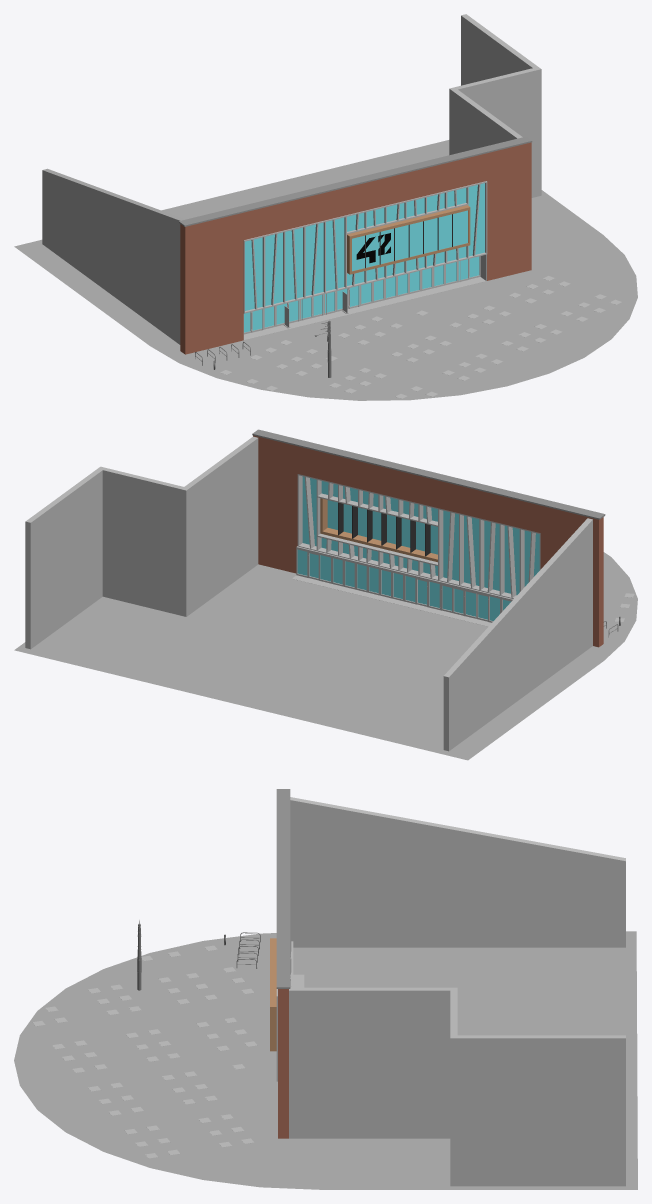
Rendered from 42WOB.glb.
3 renders of one model, top to bottom at view 1: azimuth 30°, elevation 25°; view 2: azimuth 150°, elevation 25°; view 3: azimuth 270°, elevation 25°, orthographic. The views are drawn at different scales.
Visible parts, largest first — view 1: Campus; view 2: Campus; view 3: Campus.
Boxes of the visible parts, x1,y1,x2,y2 form: Campus: [14, 14, 637, 400]; Campus: [14, 429, 637, 760]; Campus: [14, 789, 637, 1189].
Bounding box in the file's own units: 20.02 × 5.48 × 20.41.
